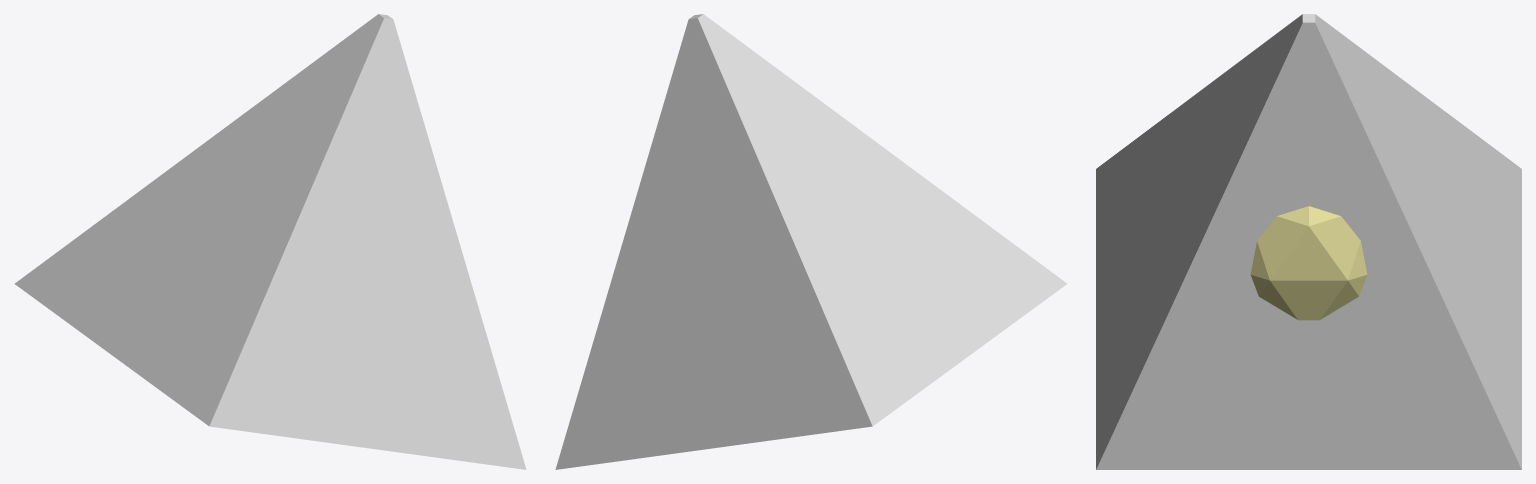
The model's file is light.dae.
The picture shows the model from 3 angles, left to right: view 1: azimuth 30°, elevation 25°; view 2: azimuth 150°, elevation 25°; view 3: azimuth 270°, elevation 25°; orthographic projection. The views are drawn at different scales.
Visible parts, largest first — view 1: Box; view 2: Box; view 3: Box, Bulb.
Boxes of the visible parts, x1,y1,x2,y2 form: Box: (14,14,526,469); Box: (555,14,1067,469); Box: (1096,14,1521,469); Bulb: (1250,206,1367,320).
Bounding box in the file's own units: 1.88 × 2 × 2.23.
